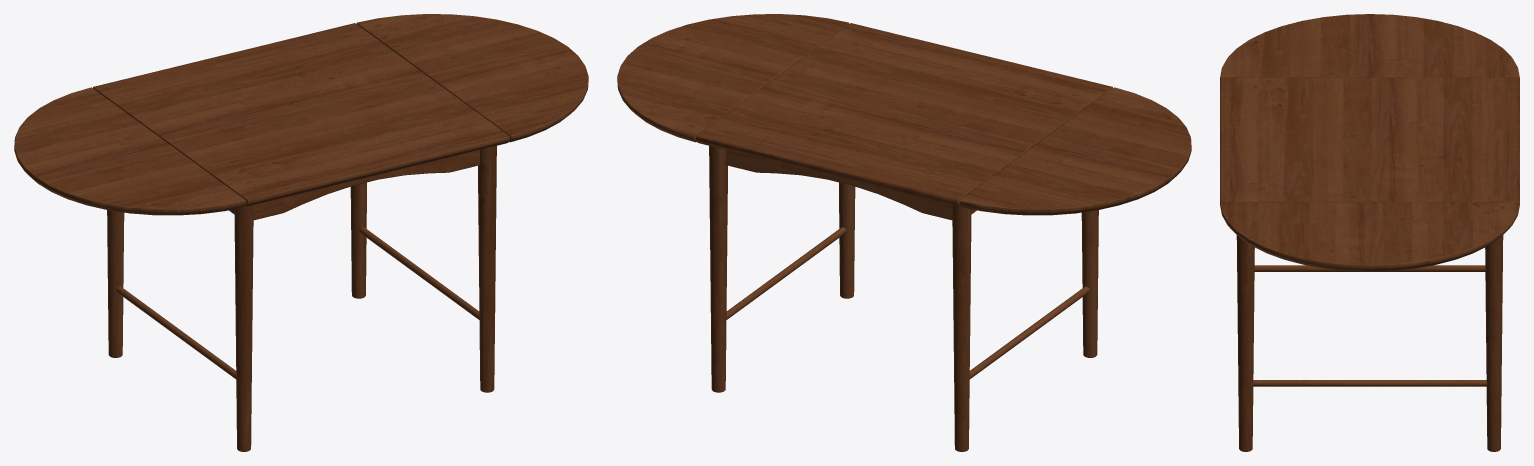
Rendered from table_42.001.fbx.
3 views of the same model, side by side, from view 1: azimuth 30°, elevation 25°; view 2: azimuth 150°, elevation 25°; view 3: azimuth 270°, elevation 25° (orthographic). The views are drawn at different scales.
Parts seen in each view (by area): view 1: table_42.001; view 2: table_42.001; view 3: table_42.001.
Part boxes in pixels (box(x1,y1,x2,y2)): table_42.001: box(14, 14, 588, 451); table_42.001: box(617, 14, 1191, 451); table_42.001: box(1220, 14, 1519, 451).
Size of the model in its own units: 160 by 74.92 by 80.58.
Materials: 1 (1 with a texture image).
